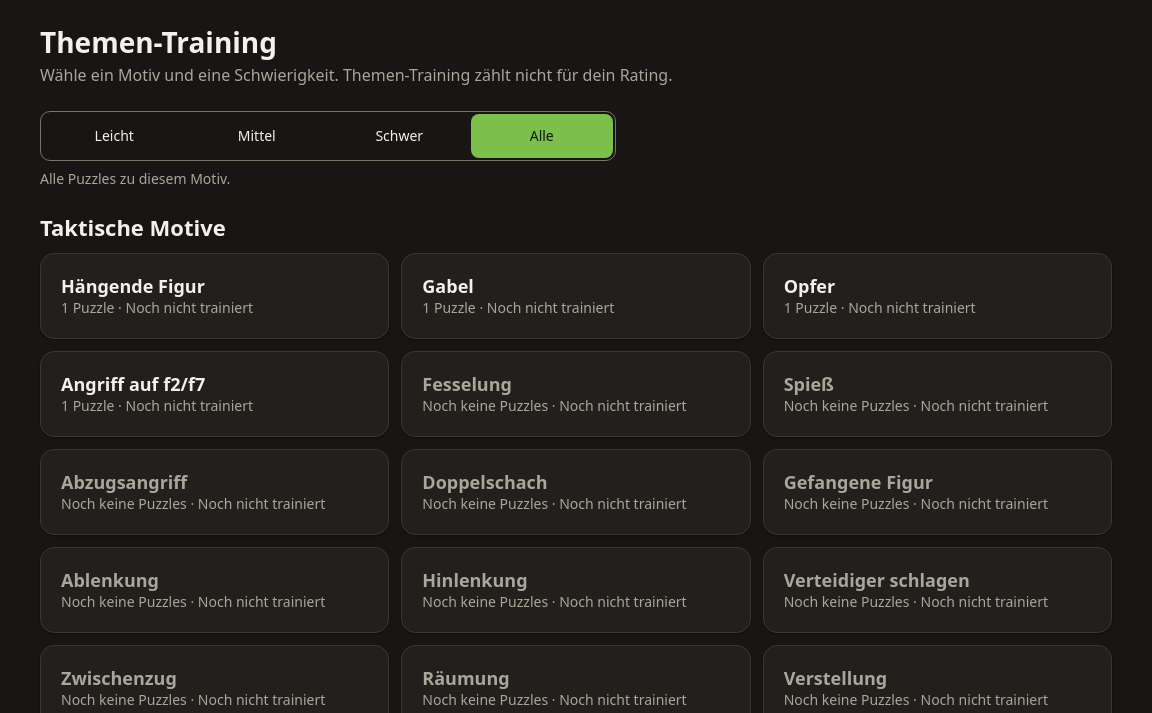
Test: Themen-Training › lists at least 20 motifs with counts, filters by difficulty and shows the success rate (AC 8)
Expected: the link with test id "theme-card" shows "1 Puzzle", [401, 253, 751, 339]
Expected: the link with test id "theme-card" shows "Noch nicht trainiert", [401, 253, 751, 339]
Click the radio button labelled "Leicht" at (114, 136), box [43, 114, 186, 158]
(page scrolled)
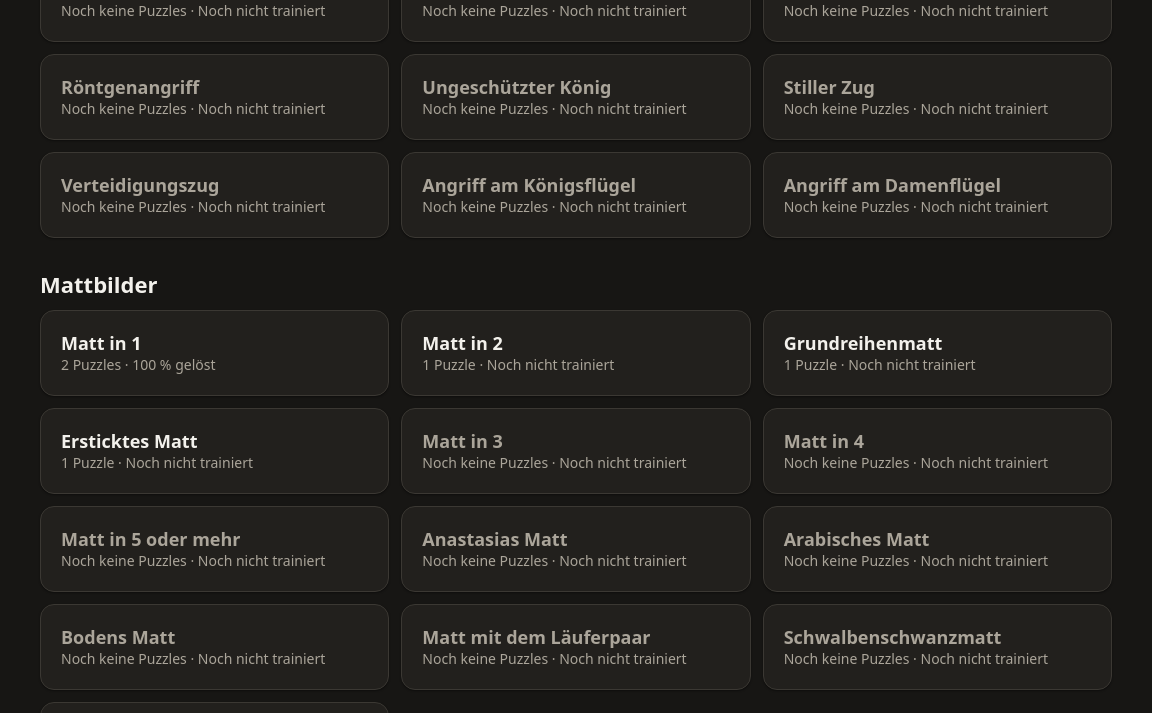
Expected: the link with test id "theme-card" shows "2 Puzzles", [40, 310, 389, 396]
Expected: the link with test id "theme-card" shows "100 % gelöst", [40, 310, 389, 396]
